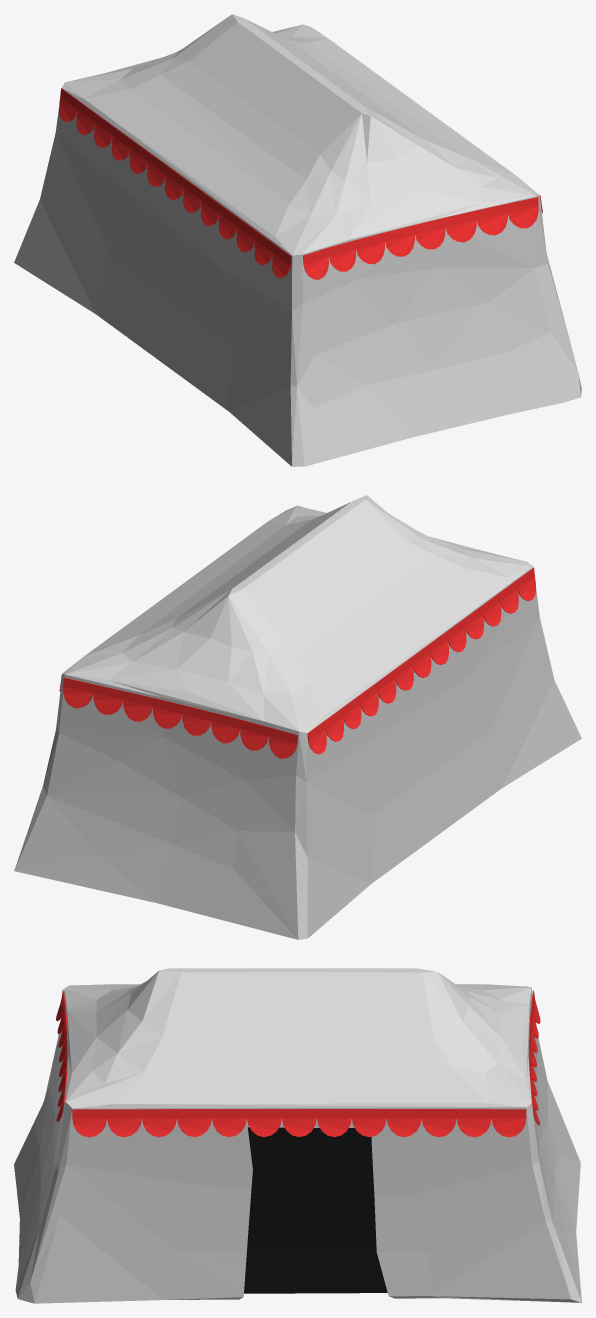
Rendered from tent_b.FBX.
The picture shows the model from 3 angles, top to bottom: view 1: azimuth 30°, elevation 25°; view 2: azimuth 150°, elevation 25°; view 3: azimuth 270°, elevation 25°; orthographic projection.
Visible parts, largest first — view 1: tent_b; view 2: tent_b; view 3: tent_b.
Part boxes in pixels (x1,y1,x2,y2): tent_b: [14, 14, 581, 466]; tent_b: [14, 495, 581, 939]; tent_b: [14, 968, 581, 1303].
Bounding box in the file's own units: 456 × 385 × 758.
